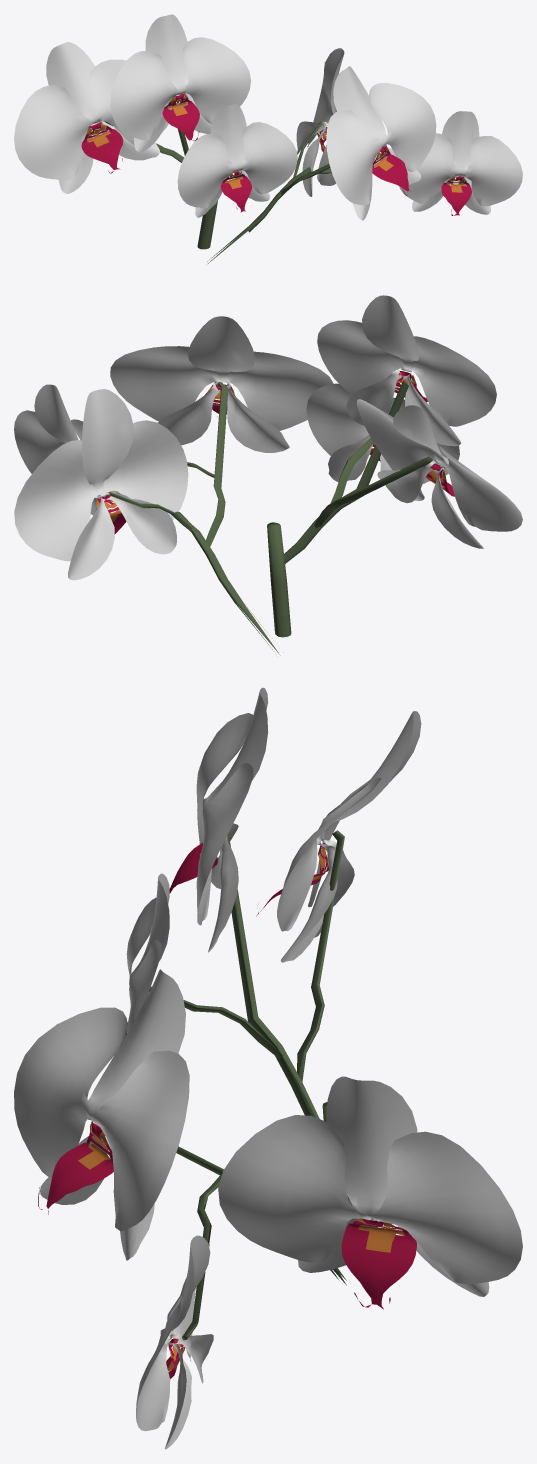
3 renders of one model, top to bottom at view 1: azimuth 30°, elevation 25°; view 2: azimuth 150°, elevation 25°; view 3: azimuth 270°, elevation 25°, orthographic. The views are drawn at different scales.
Visible parts, largest first — view 1: f1091068; view 2: f1091068; view 3: f1091068.
Part boxes in pixels (x1,y1,x2,y2): f1091068: [14, 14, 522, 263]; f1091068: [14, 295, 522, 655]; f1091068: [14, 687, 522, 1449].
Bounding box in the file's own units: 0.2251 × 0.1343 × 0.1154.
